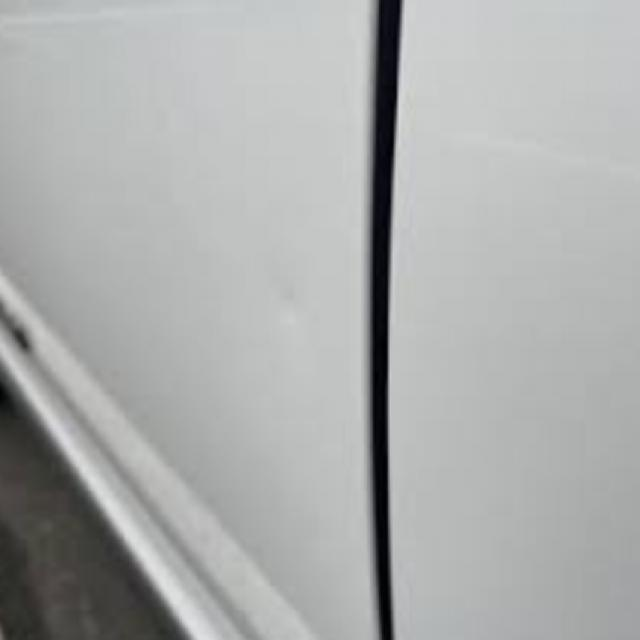dents: (261, 286, 339, 342)
